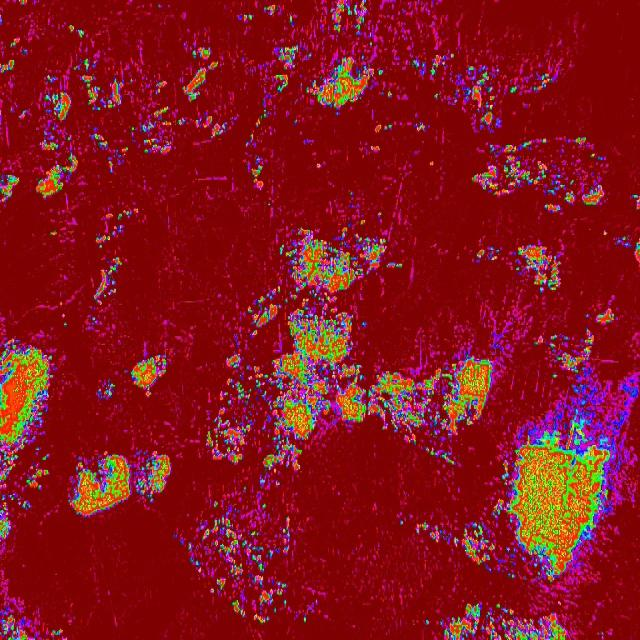fire: (204, 221, 493, 489), (497, 401, 623, 591), (178, 486, 315, 625), (0, 338, 54, 542), (469, 134, 607, 212), (65, 447, 173, 518), (458, 61, 556, 129), (422, 597, 571, 640), (394, 512, 497, 572), (521, 331, 603, 400), (37, 74, 79, 208), (176, 45, 230, 137), (305, 56, 382, 119), (496, 241, 565, 295), (79, 51, 125, 115), (90, 252, 126, 326), (128, 102, 176, 156), (409, 48, 453, 102), (96, 208, 145, 250), (132, 348, 168, 397), (92, 130, 131, 175), (326, 0, 369, 39), (272, 43, 300, 95), (2, 30, 30, 76), (0, 602, 33, 640), (245, 102, 270, 150), (245, 151, 268, 191), (615, 230, 640, 266), (588, 306, 622, 332), (0, 170, 19, 212), (96, 378, 121, 407), (370, 121, 433, 132), (150, 75, 171, 99), (69, 20, 87, 42), (262, 1, 283, 19), (600, 622, 617, 640), (239, 12, 258, 28), (50, 626, 69, 640), (60, 316, 71, 338), (16, 106, 31, 122), (48, 225, 62, 241), (602, 224, 612, 246), (632, 189, 640, 216), (263, 200, 280, 211), (303, 136, 321, 146), (428, 156, 438, 172), (17, 0, 32, 10), (396, 521, 411, 530), (385, 91, 397, 101), (291, 119, 302, 128), (288, 14, 295, 28), (308, 50, 315, 60)
